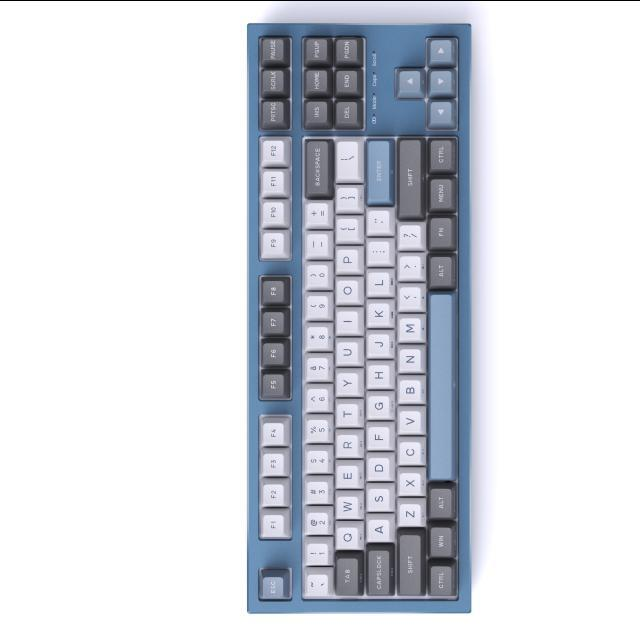klavye: (245, 21, 471, 614)
